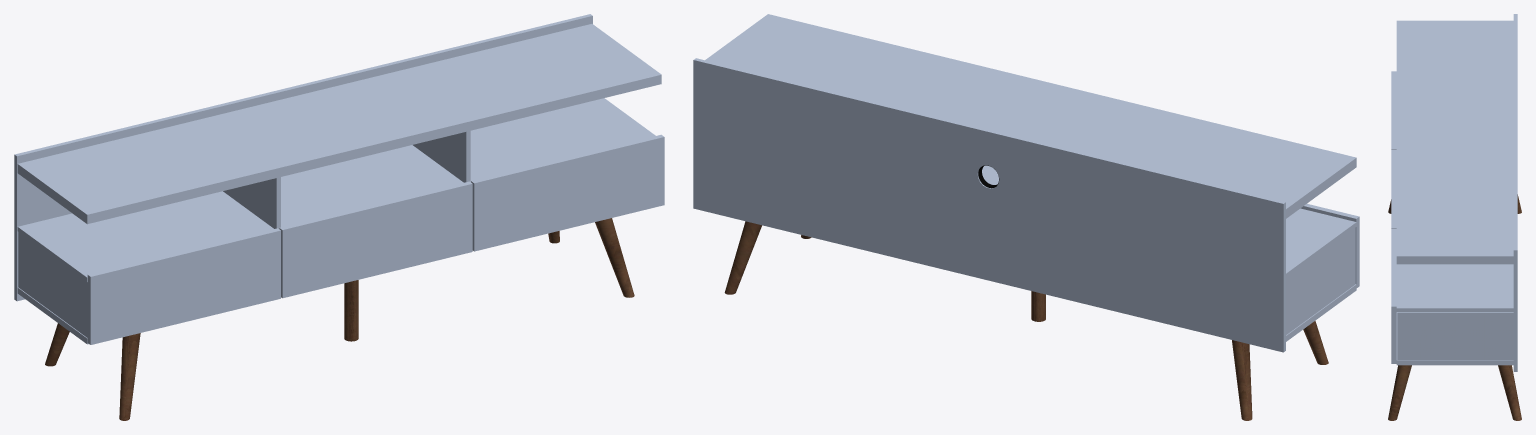
The picture shows the model from 3 angles, left to right: view 1: azimuth 30°, elevation 25°; view 2: azimuth 150°, elevation 25°; view 3: azimuth 270°, elevation 25°; orthographic projection. The views are drawn at different scales.
Visible parts, largest first — view 1: Box001_1, Box002_2, Box008_7, Box010_9, Box009_8, Box013_17, Plane002_6, Box006_3, Box007_4, VIFS077_13, VIFS079_12, VIFS069_16; view 2: Box013_17, Box001_1, Plane002_6, Box002_2, VIFS073_15, VIFS075_14, Box008_7; view 3: Box001_1, Box002_2, Plane001_5, Box013_17, Box011_10, Box010_9, VIFS075_14, VIFS079_12, Box008_7, Box009_8.
Part boxes in pixels (x1,y1,x2,y2): Box001_1: (17, 24, 661, 224); Box002_2: (17, 98, 655, 281); Box008_7: (87, 228, 280, 344); Box010_9: (471, 134, 664, 251); Box009_8: (279, 181, 472, 298); Box013_17: (14, 14, 592, 301); Plane002_6: (18, 232, 87, 337); Box006_3: (413, 131, 470, 182); Box007_4: (223, 177, 280, 228); VIFS077_13: (119, 333, 140, 420); VIFS079_12: (595, 218, 634, 297); VIFS069_16: (344, 280, 358, 341); Box013_17: (693, 58, 1285, 352); Box001_1: (705, 14, 1356, 218); Plane002_6: (1286, 227, 1355, 334); Box002_2: (982, 165, 1356, 277); VIFS073_15: (1232, 340, 1252, 420); VIFS075_14: (724, 221, 761, 294); Box008_7: (1300, 204, 1359, 287); Box001_1: (1396, 20, 1513, 264); Box002_2: (1396, 264, 1513, 311); Plane001_5: (1397, 312, 1513, 359); Box013_17: (1513, 14, 1517, 371); Box011_10: (1396, 312, 1513, 365); Box010_9: (1391, 228, 1396, 363); VIFS075_14: (1498, 365, 1521, 420); VIFS079_12: (1388, 365, 1411, 420); Box008_7: (1391, 71, 1396, 149); Box009_8: (1391, 150, 1396, 228).
Bounding box in the file's own units: 1.61 × 0.5816 × 0.3847.
Materials: 4 (1 with a texture image).
